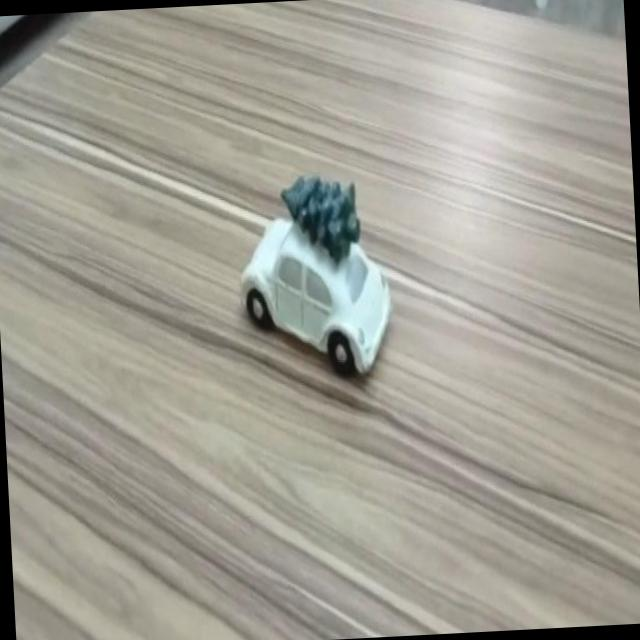car: (236, 216, 394, 377)
